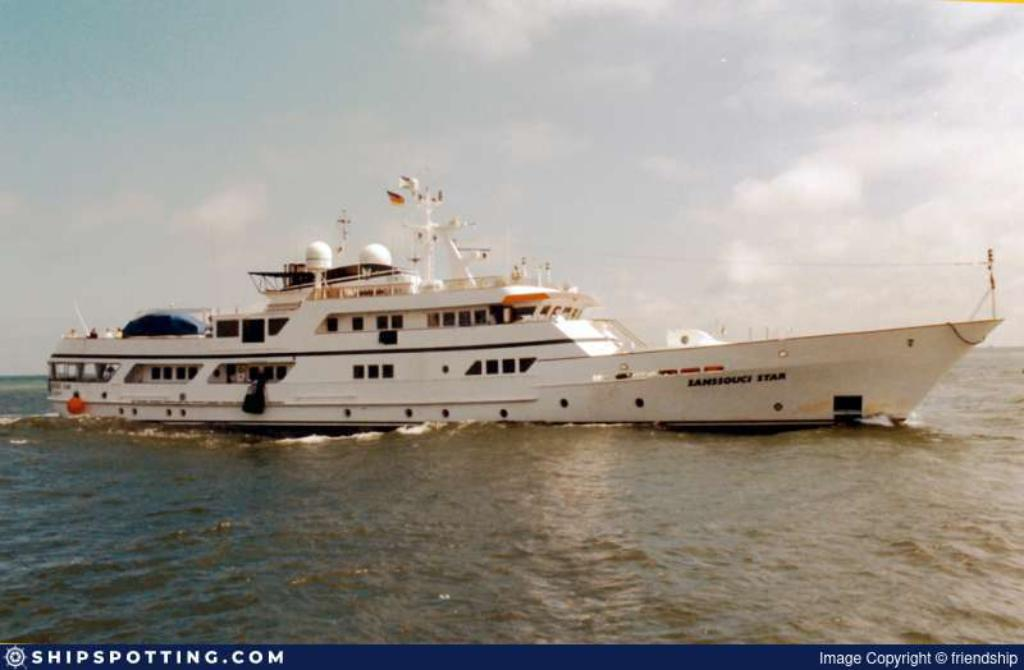PassengerShip: (36, 167, 1004, 431)
